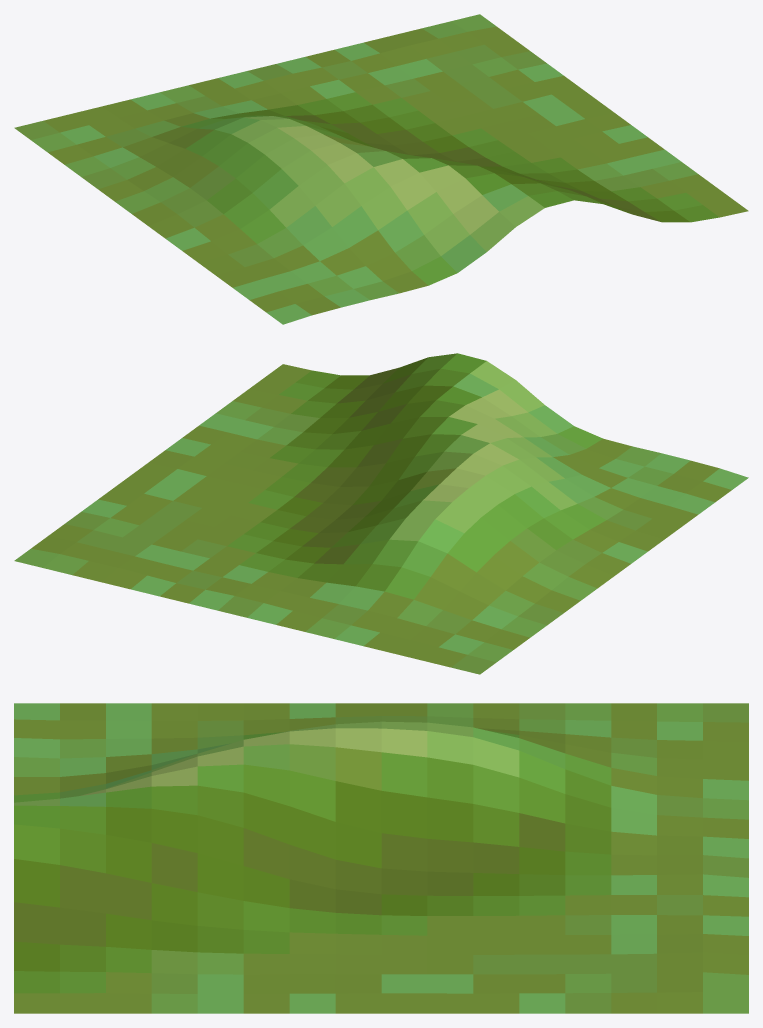
The model's file is hills4.obj.
3 views of the same model, one above another, from view 1: azimuth 30°, elevation 25°; view 2: azimuth 150°, elevation 25°; view 3: azimuth 270°, elevation 25° (orthographic). The views are drawn at different scales.
Parts seen in each view (by area): view 1: hills4; view 2: hills4; view 3: hills4.
Boxes of the visible parts, x1=… form: hills4: x1=14, y1=14, x2=748, y2=324; hills4: x1=14, y1=353, x2=748, y2=674; hills4: x1=14, y1=703, x2=748, y2=1013.
Size of the model in its own units: 1 by 0.1133 by 1.
Materials: 1 (1 with a texture image).
